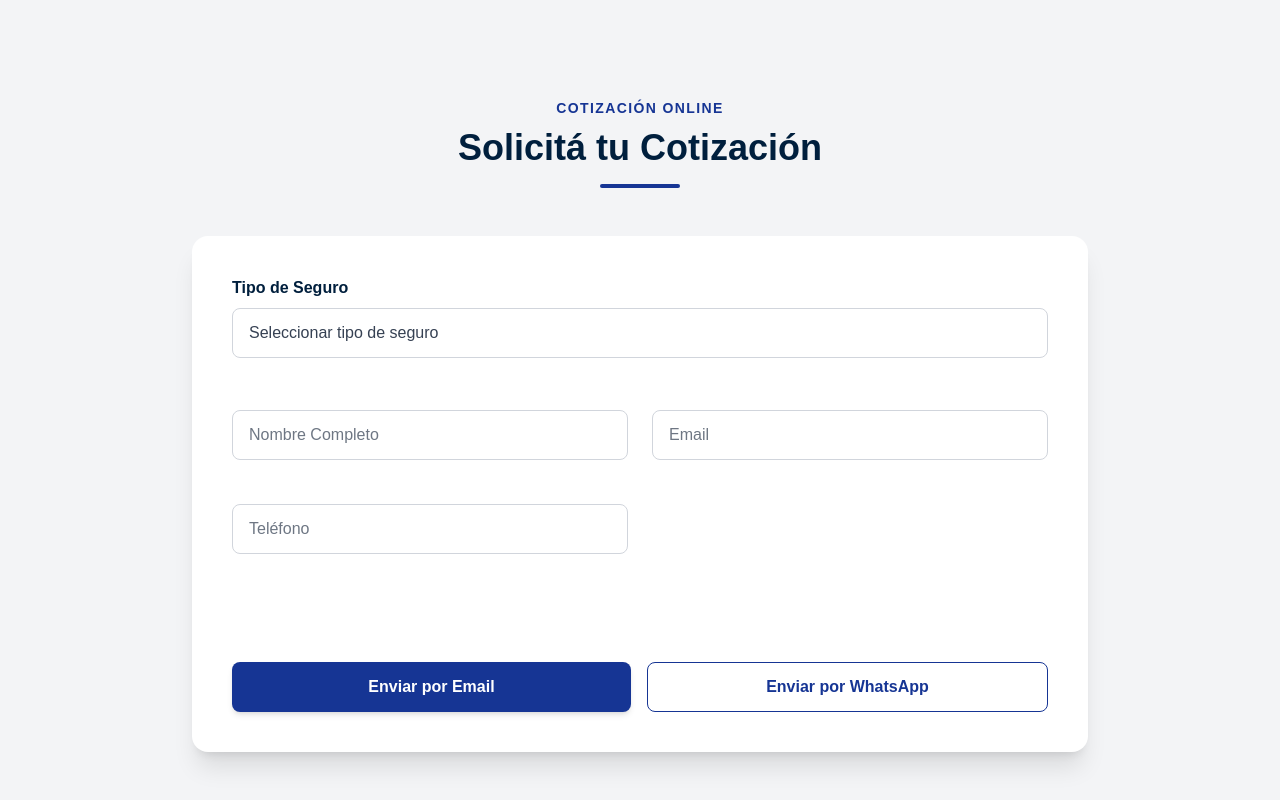
Test: Formulario de Cotización Completo › Validaciones de campos dinámicos según tipo de seguro › Validaciones para Seguro de Vida › no permite enviar si la edad esta incompleto
Select "Vida" in the dropdown named "tipo de seguro" at {"x": 640, "y": 333}, box [232,308,1048,358]
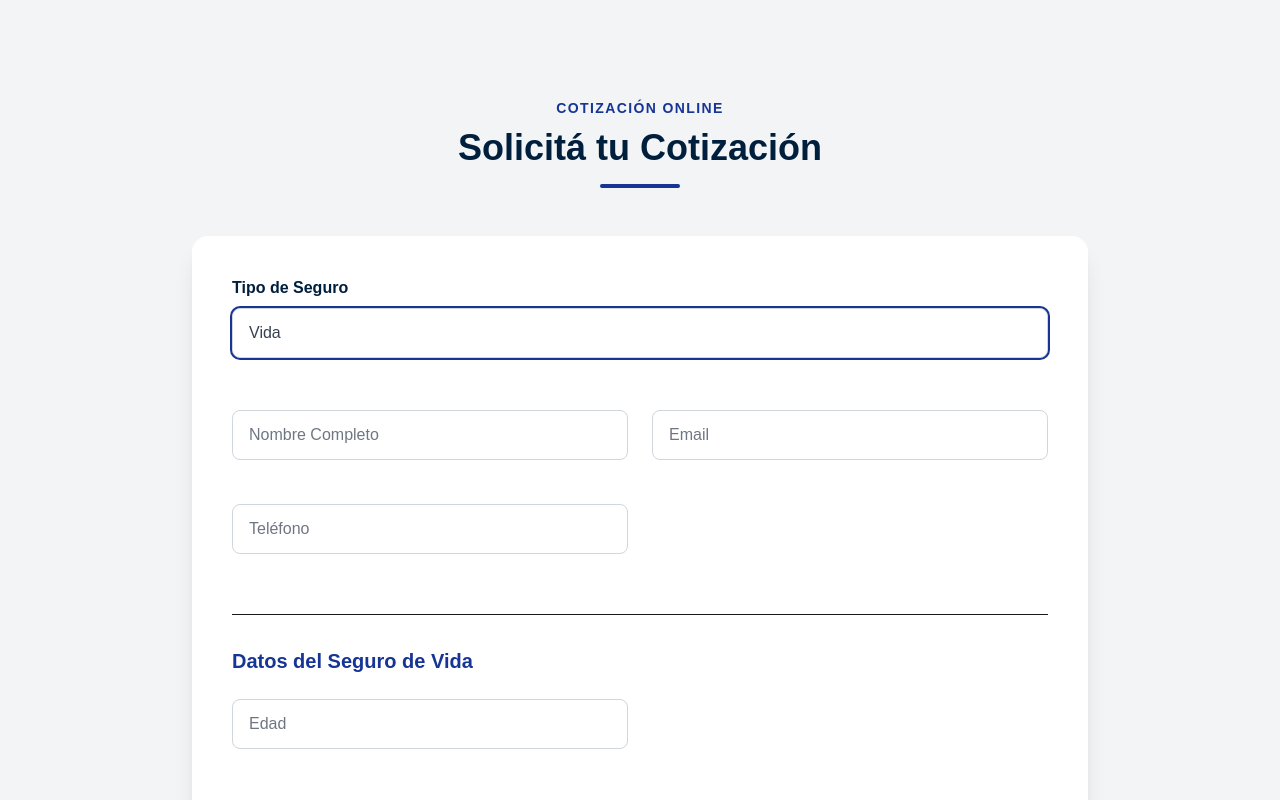
Type "Juan" into the field with placeholder "Nombre Completo" at {"x": 430, "y": 435}, box [232,410,628,460]
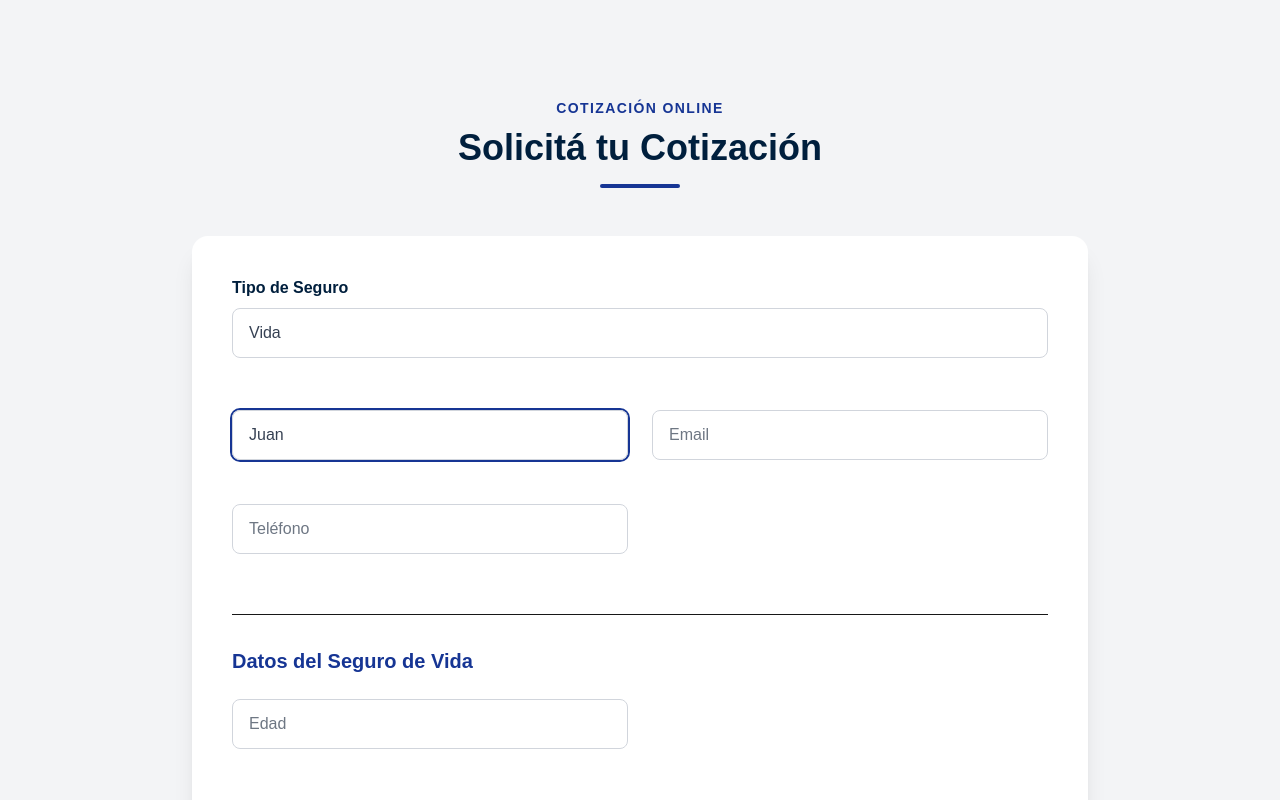
Type "juan@mail.com" into the field with placeholder "Email" at {"x": 850, "y": 435}, box [652,410,1048,460]
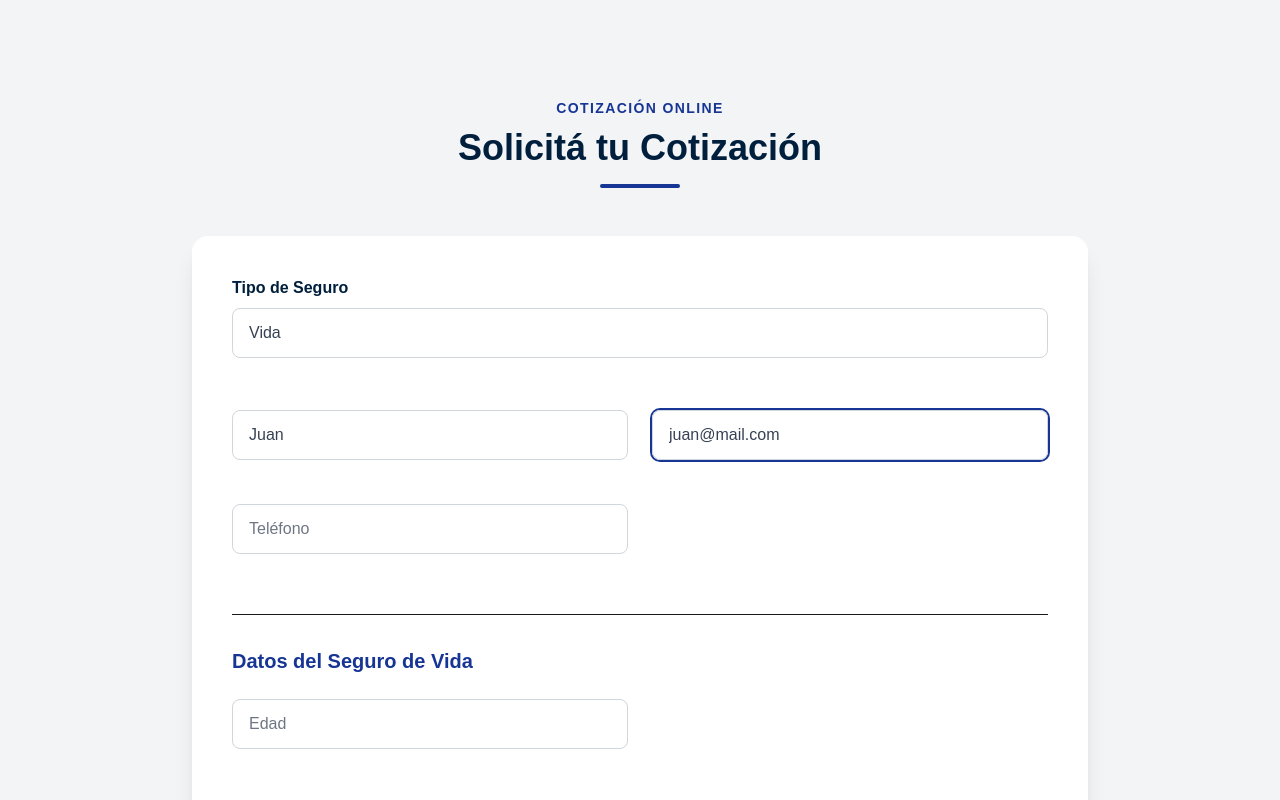
Type "12345678" into the number field with placeholder "Teléfono" at {"x": 430, "y": 529}, box [232,504,628,554]
(page scrolled)
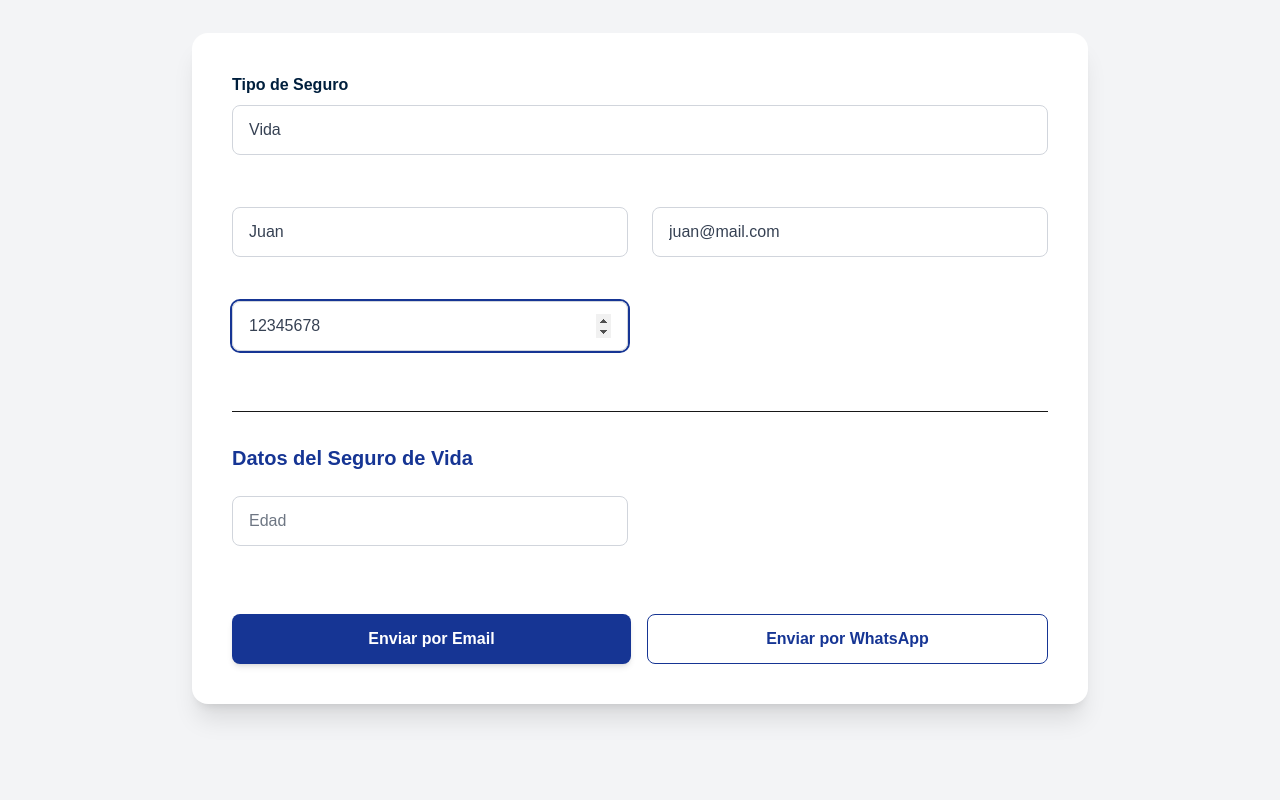
Click the button "Enviar por WhatsApp" at {"x": 848, "y": 639}, box [647,614,1048,664]
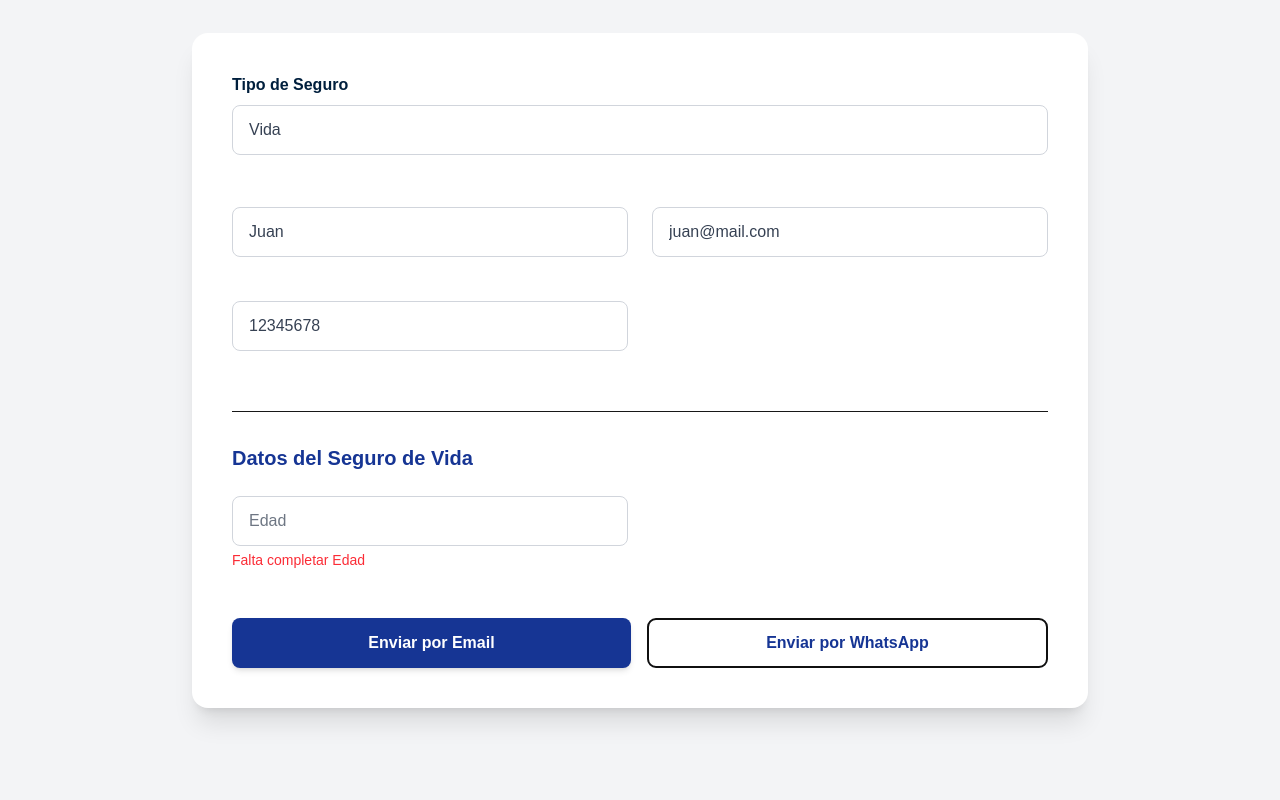
Expected: the text "Falta completar Edad" is shown, [232,552,365,568]
